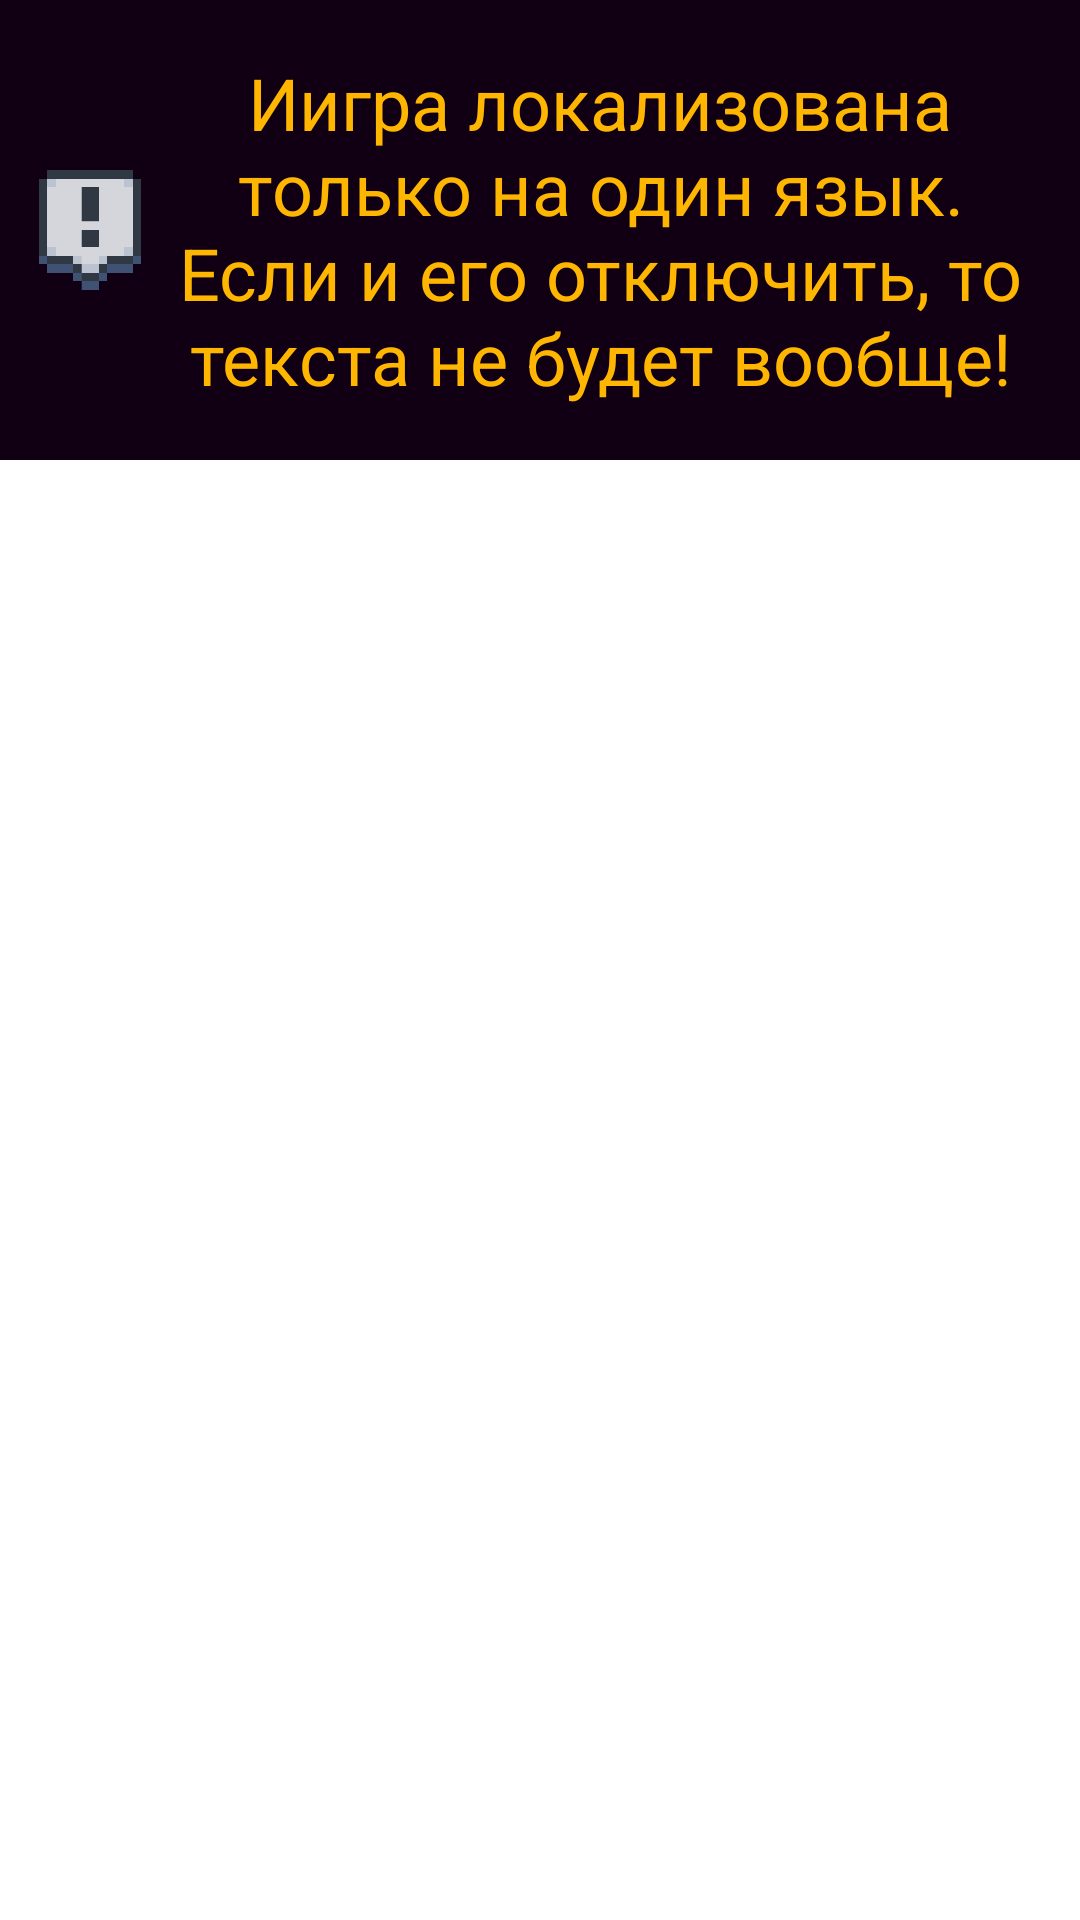

Screen size 1080x1920. Icon name, then its center in pixels as (x,y):
warning: (90,230)
